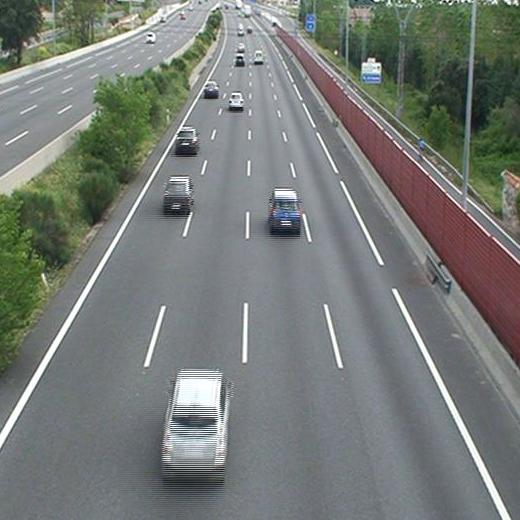car: (163, 369, 228, 475), (270, 189, 301, 229), (164, 177, 192, 208), (176, 128, 197, 150), (228, 91, 243, 107), (203, 81, 219, 95), (235, 55, 245, 66)
van: (253, 50, 263, 63)
